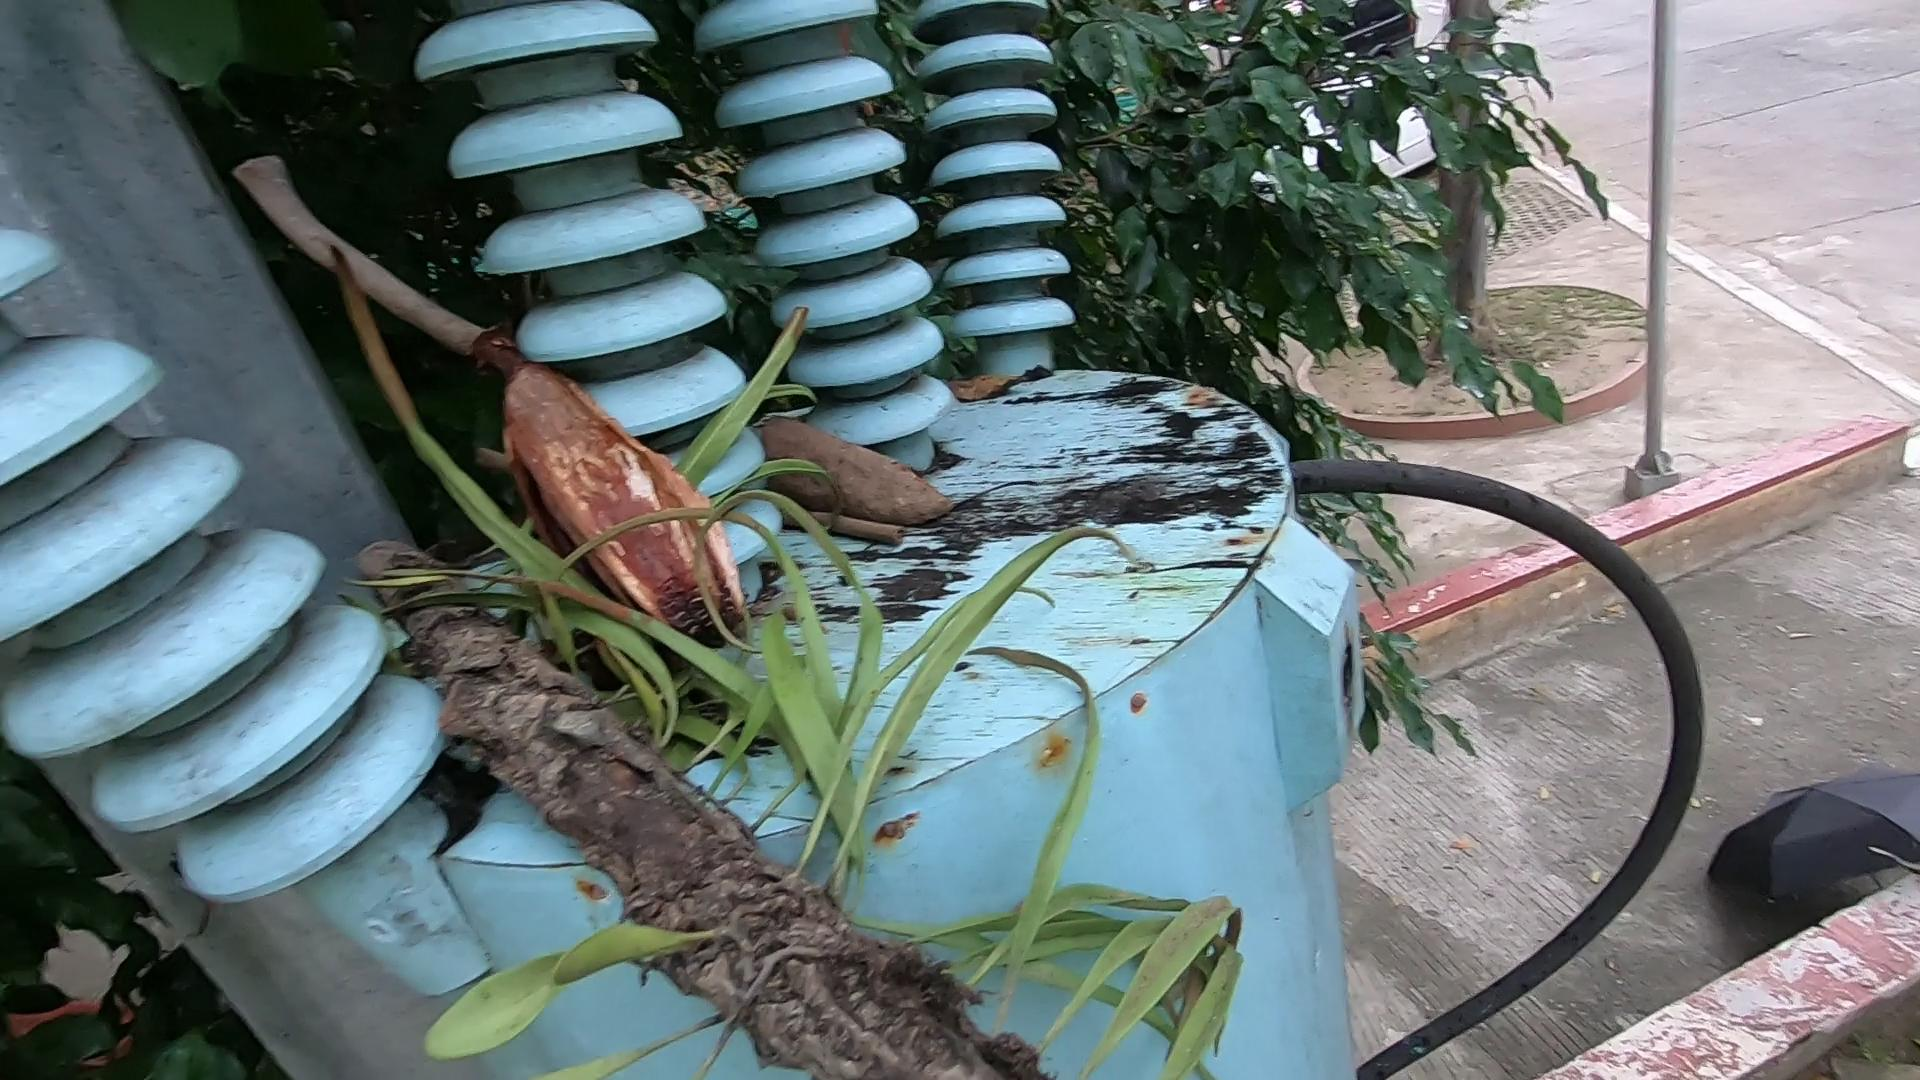leaf: (926, 376, 1048, 425)
mahogany fruit: (460, 378, 760, 611), (731, 342, 949, 551)
tree branch: (359, 531, 975, 1080), (236, 132, 504, 413), (796, 493, 924, 564)
